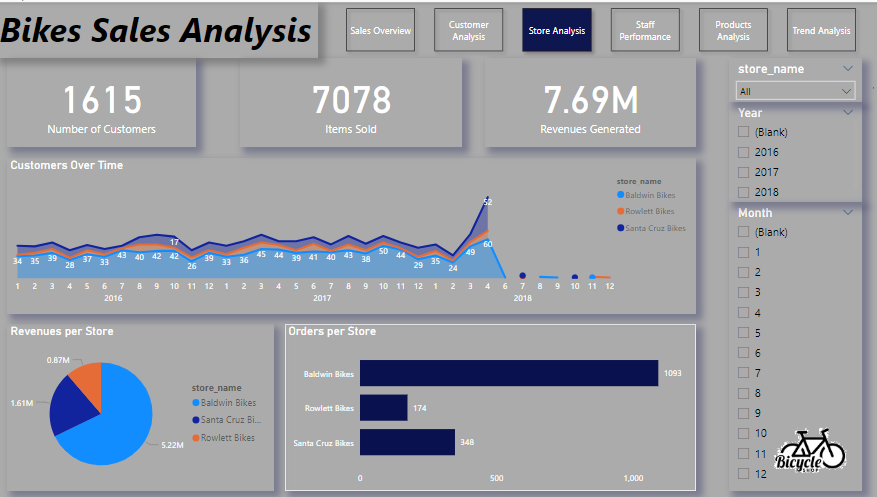

What the dashboard file says about the page in this screenshot:
{"tool":"powerbi","page":{"name":"Store Analysis","canvas":[1280,720],"ordinal":2},"visuals":[{"type":"textbox","box":[0,0,1280,80],"z":0},{"type":"actionButton","box":[0,0,464,80],"z":1000},{"type":"pieChart","title":"Revenues per Store","fields":{"Category":["stores.store_name"],"Y":["Sum(order_items.Revenue)"]},"box":[16,464,384,240],"z":2000},{"type":"barChart","title":"Orders per Store","fields":{"Y":["CountNonNull(orders.order_id)"],"Category":["stores.store_name","orders.order_date"]},"box":[416,464,592,240],"z":3000},{"type":"slicer","fields":{"Values":["orders.Month"]},"box":[1056,288,192,416],"z":4000},{"type":"slicer","fields":{"Values":["orders.Year"]},"box":[1056,144,192,144],"z":5000},{"type":"slicer","fields":{"Values":["stores.store_name"]},"box":[1056,80,192,64],"z":6000},{"type":"card","fields":{"Values":["CountNonNull(orders.customer_id)"]},"box":[16,80,272,128],"z":7000},{"type":"card","fields":{"Values":["Sum(order_items.quantity)"]},"box":[352,80,320,128],"z":8000},{"type":"card","fields":{"Values":["Sum(order_items.Revenue)"]},"box":[704,80,304,128],"z":9000},{"type":"stackedAreaChart","title":"Customers Over Time","fields":{"Y":["CountNonNull(orders.customer_id)"],"Category":["orders.Year","orders.Month"],"Series":["stores.store_name"]},"box":[16,224,992,224],"z":10000},{"type":"pageNavigator","box":[496,0,752,80],"z":11000}]}

Visuals, with their boxes in screenshot pixels (x1, y1, x2, y2), scaled from the page's 1280x720 canvas onto the 877x497 screenshot:
textbox: (0, 0, 876, 55)
actionButton: (0, 0, 318, 55)
"Revenues per Store" pieChart: (11, 320, 274, 486)
"Orders per Store" barChart: (285, 320, 691, 486)
slicer - orders.Month: (724, 199, 855, 486)
slicer - orders.Year: (724, 99, 855, 199)
slicer - stores.store_name: (724, 55, 855, 99)
card - CountNonNull(orders.customer_id): (11, 55, 197, 144)
card - Sum(order_items.quantity): (241, 55, 460, 144)
card - Sum(order_items.Revenue): (482, 55, 691, 144)
"Customers Over Time" stackedAreaChart: (11, 155, 691, 309)
pageNavigator: (340, 0, 855, 55)
